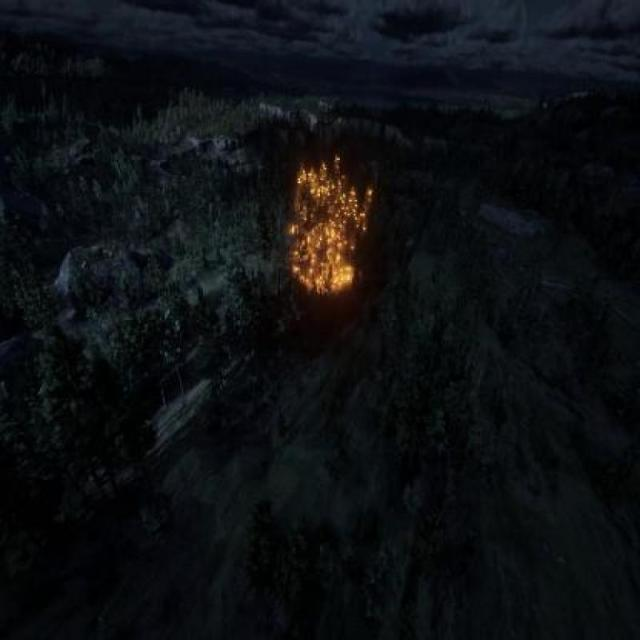Fire: (291, 153, 377, 304)
